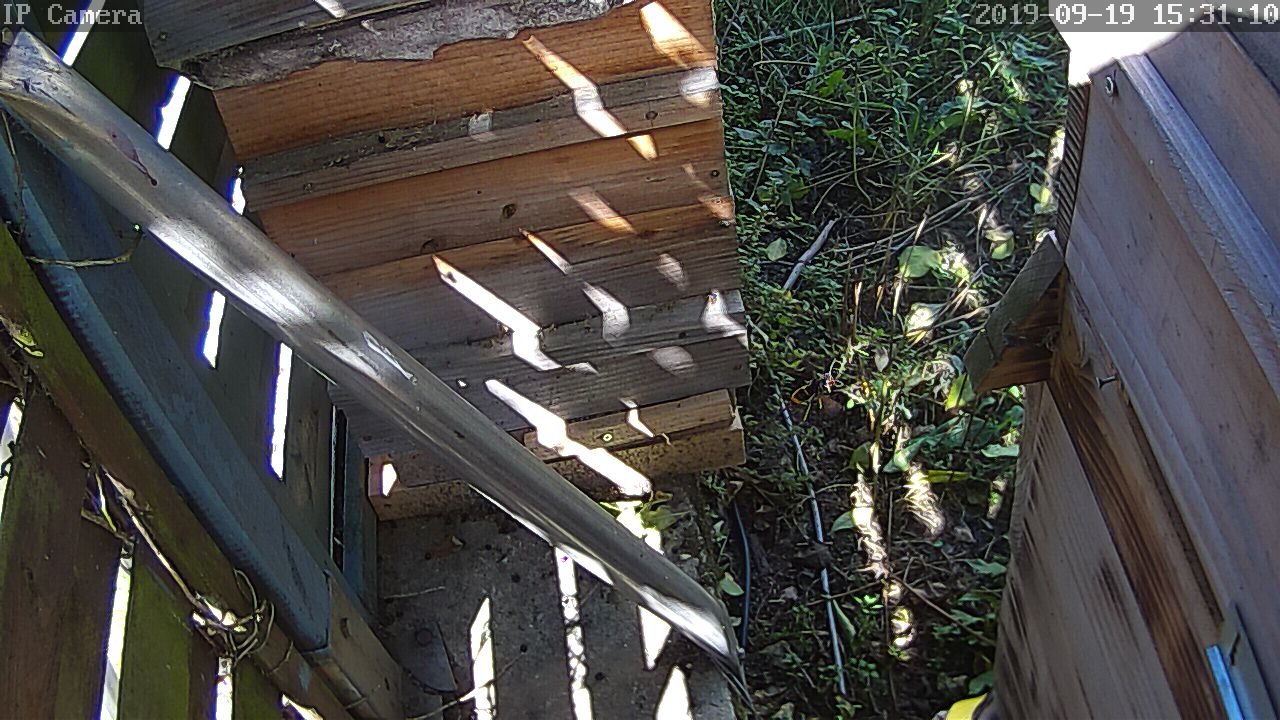hornet: (28, 0, 1242, 720)
